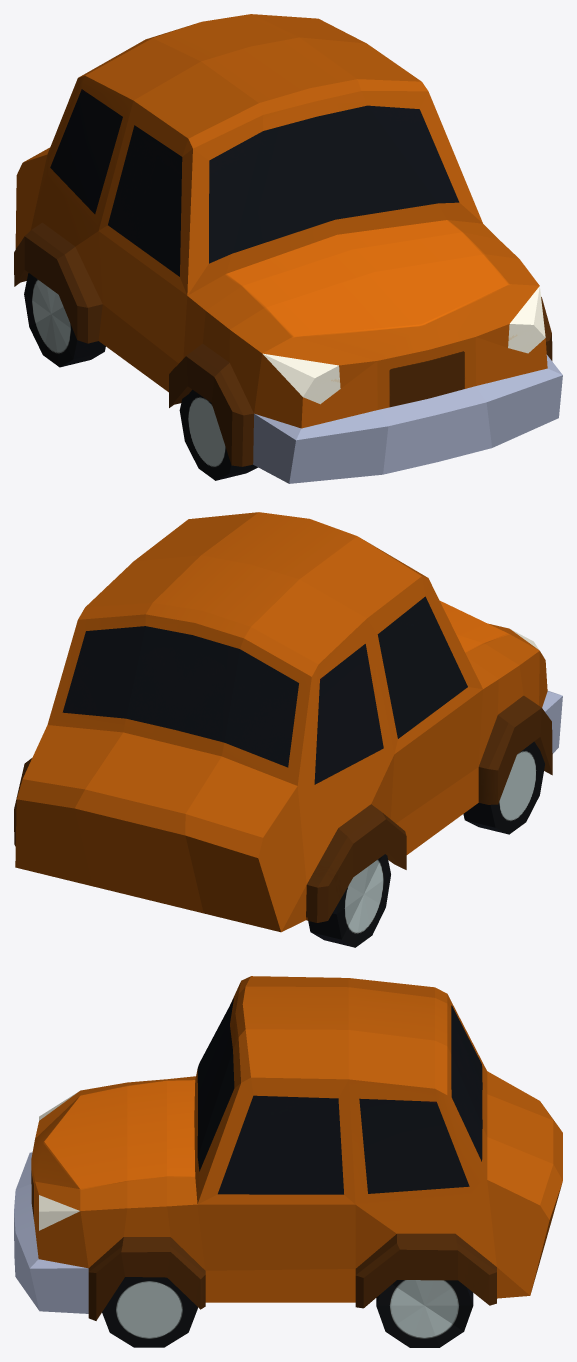
The model's file is Car_2.fbx.
3 renders of one model, top to bottom at view 1: azimuth 30°, elevation 25°; view 2: azimuth 150°, elevation 25°; view 3: azimuth 270°, elevation 25°, orthographic. The views are drawn at different scales.
Parts seen in each view (by area): view 1: Tyre_Normal; view 2: Tyre_Normal; view 3: Tyre_Normal.
Boxes of the visible parts, x1,y1,x2,y2 form: Tyre_Normal: [14, 14, 562, 483]; Tyre_Normal: [14, 512, 562, 947]; Tyre_Normal: [14, 976, 562, 1347].
Bounding box in the file's own units: 8.95 × 8.05 × 14.51.
Materials: 2 (2 with a texture image).
